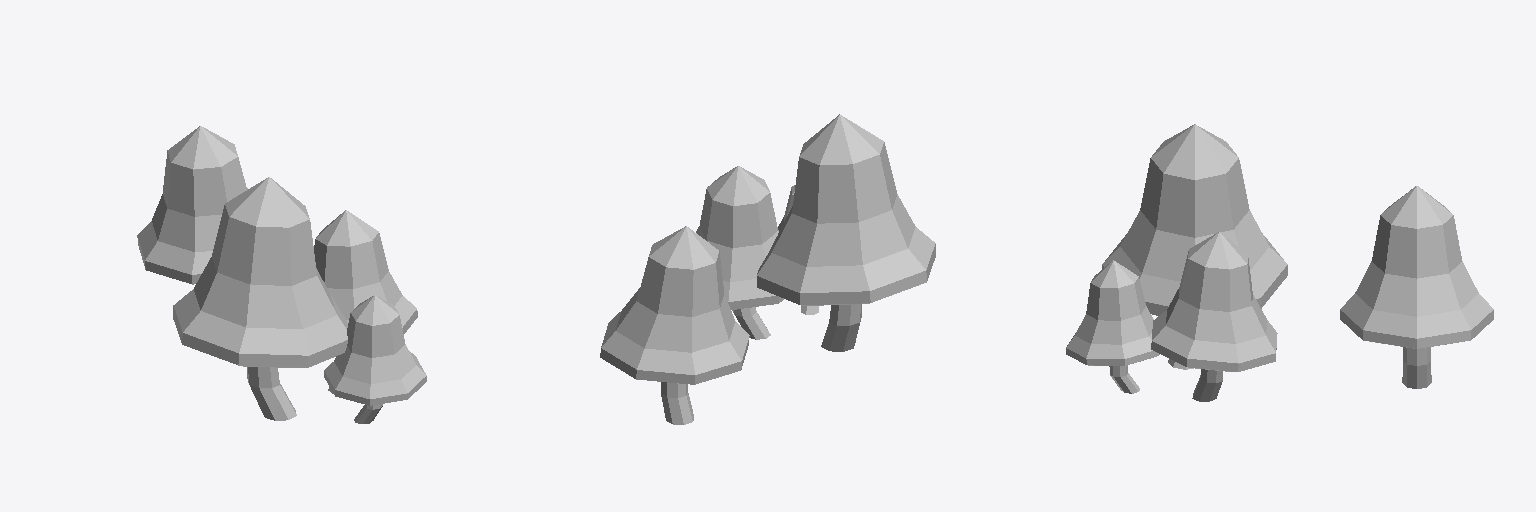
The model's file is mushroom3.obj.
3 views of the same model, side by side, from view 1: azimuth 30°, elevation 25°; view 2: azimuth 150°, elevation 25°; view 3: azimuth 270°, elevation 25° (orthographic).
Visible parts, largest first — view 1: Mushroom_high_group_yellow_Cylinder.068, Mushroom_high_yellow_Cylinder.062; view 2: Mushroom_high_group_yellow_Cylinder.068, Mushroom_high_yellow_Cylinder.062; view 3: Mushroom_high_group_yellow_Cylinder.068, Mushroom_high_yellow_Cylinder.062.
Boxes of the visible parts, x1=… form: Mushroom_high_group_yellow_Cylinder.068: x1=173, y1=177, x2=426, y2=423; Mushroom_high_yellow_Cylinder.062: x1=137, y1=126, x2=247, y2=284; Mushroom_high_group_yellow_Cylinder.068: x1=696, y1=114, x2=935, y2=351; Mushroom_high_yellow_Cylinder.062: x1=600, y1=226, x2=749, y2=424; Mushroom_high_group_yellow_Cylinder.068: x1=1066, y1=124, x2=1287, y2=401; Mushroom_high_yellow_Cylinder.062: x1=1340, y1=186, x2=1493, y2=388.
Size of the model in its own units: 3.79 by 3.66 by 6.04.